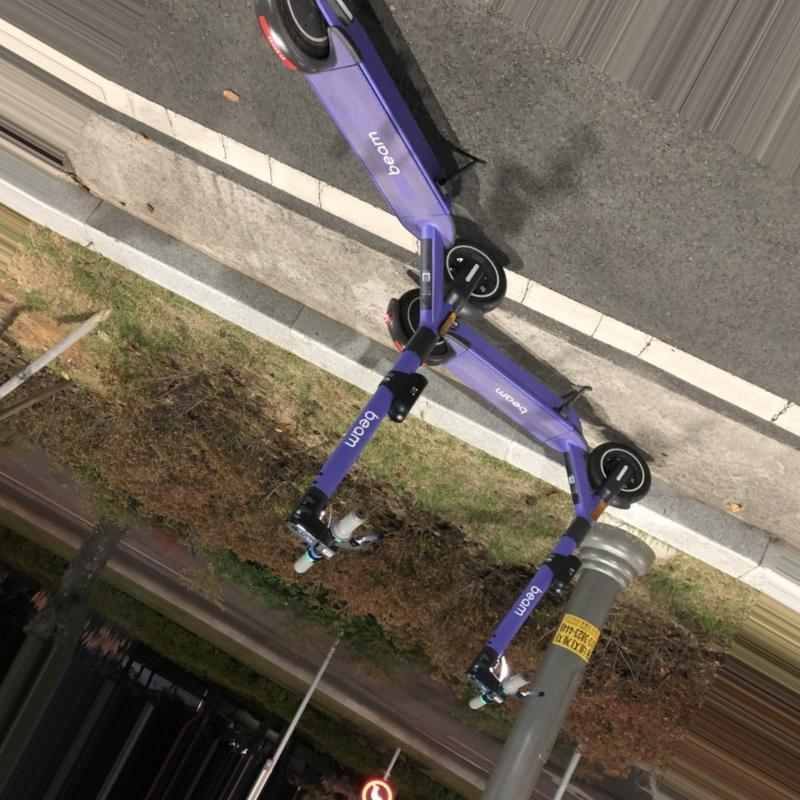scooter: (254, 1, 509, 576), (385, 287, 654, 711)
